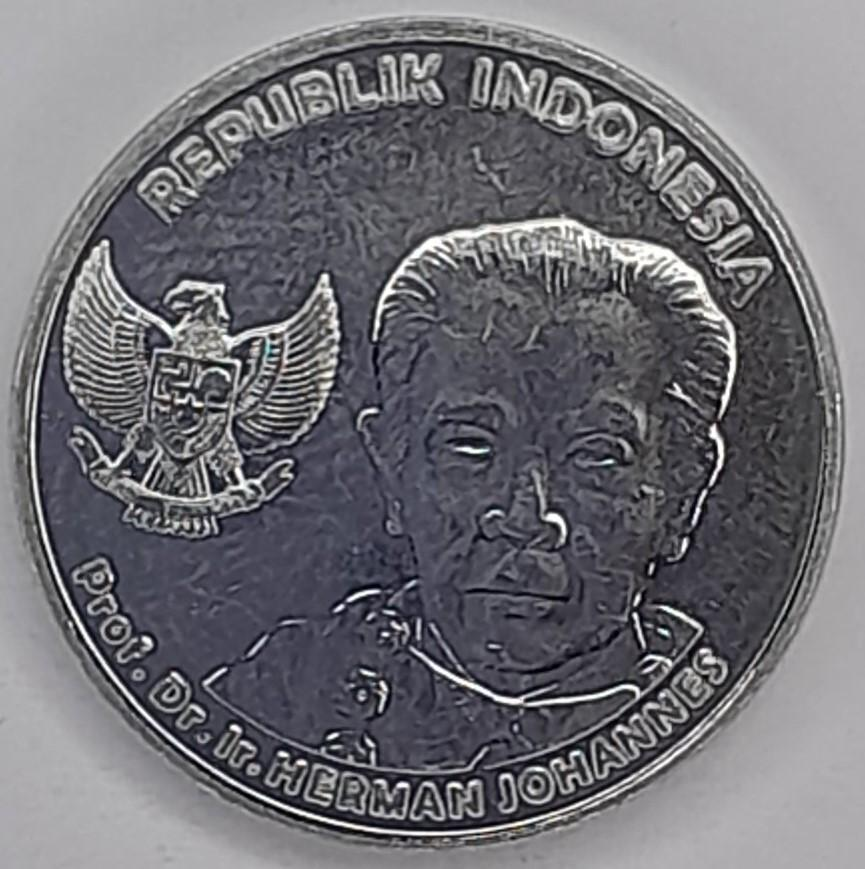coin_100_e2016: (4, 8, 849, 851)
